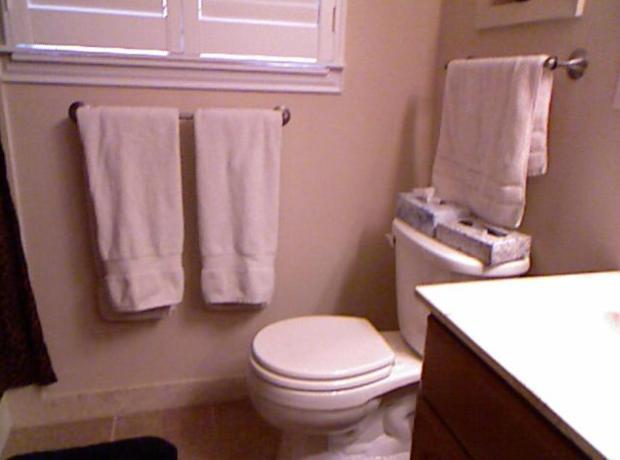Sanitario: (245, 216, 539, 459)
